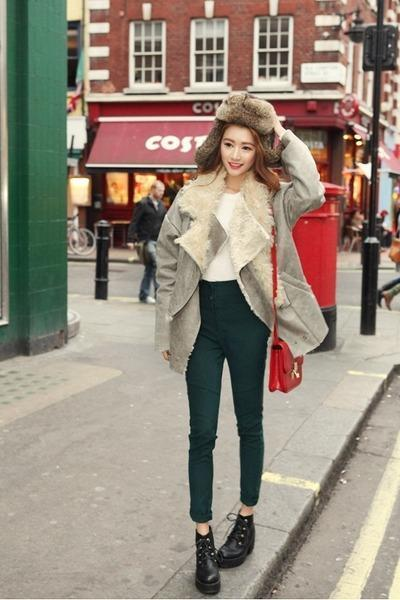bag: (265, 252, 303, 392)
hat: (204, 84, 269, 131)
jacket: (139, 132, 344, 374)
pants: (185, 276, 270, 522)
shirt: (207, 192, 251, 288)
shoe: (194, 514, 254, 596)
